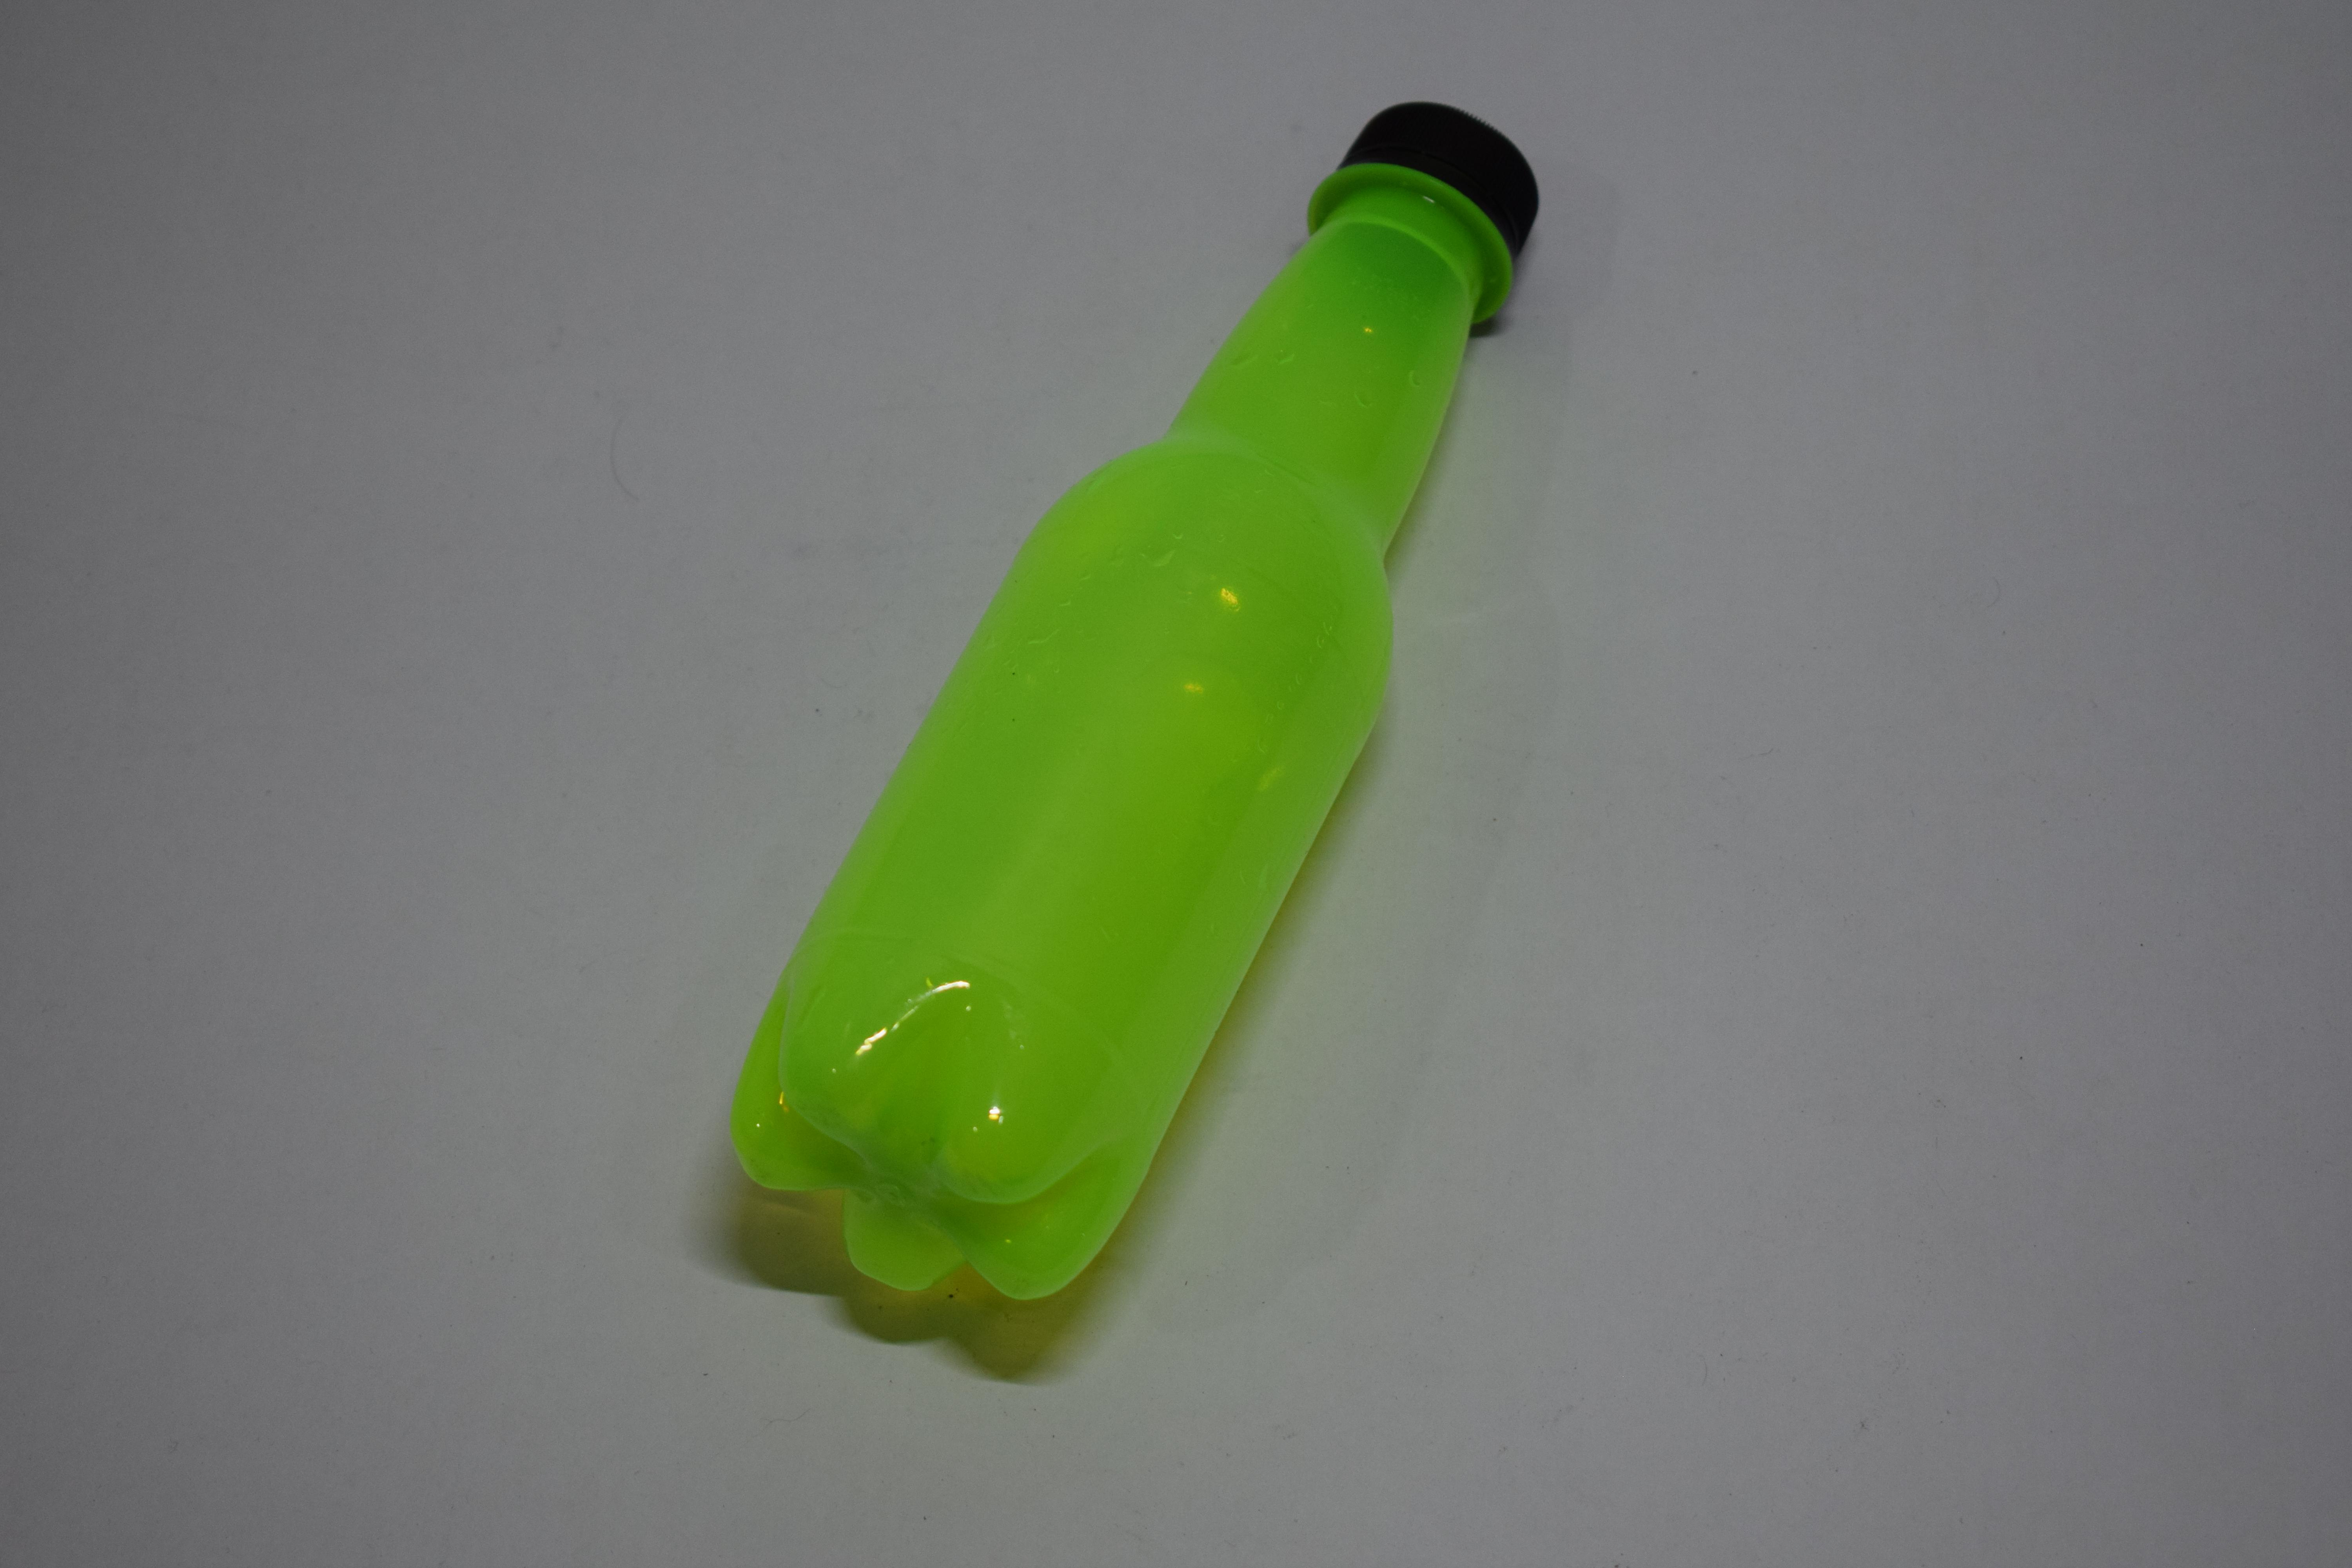bottle: (772, 86, 1493, 1321)
